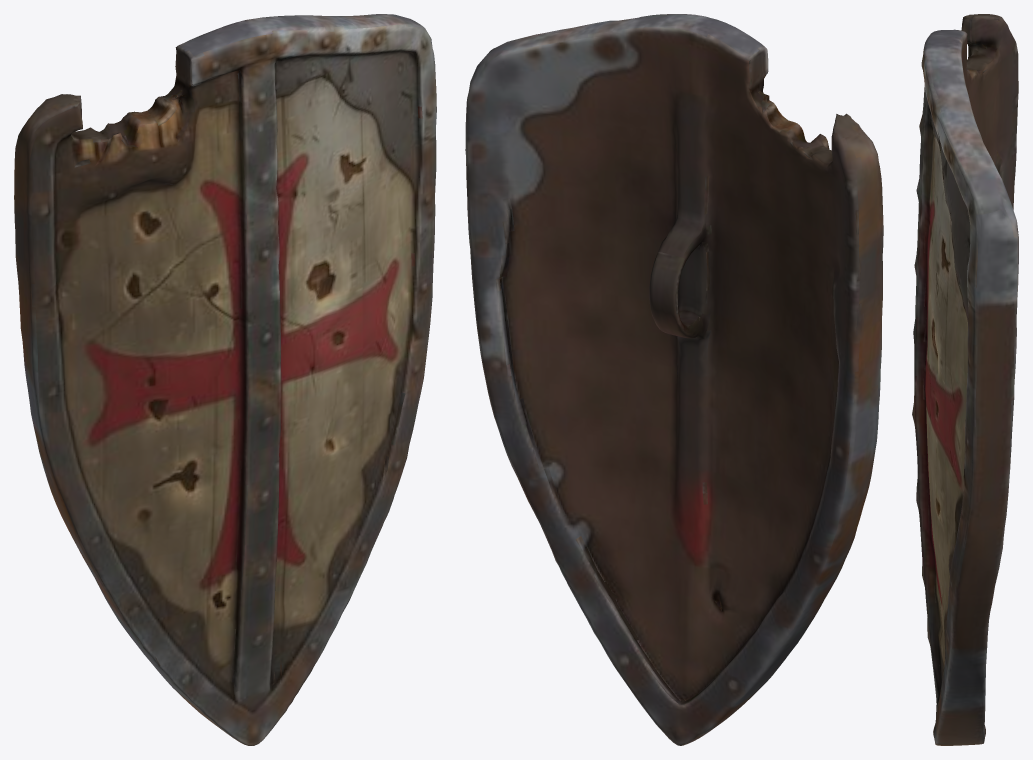
The model's file is PF_Shield7.glb.
The picture shows the model from 3 angles, left to right: view 1: azimuth 30°, elevation 25°; view 2: azimuth 150°, elevation 25°; view 3: azimuth 270°, elevation 25°; orthographic projection. The views are drawn at different scales.
Size of the model in its own units: 1.14 by 1.91 by 0.2657.
1 material, 1 textured.
